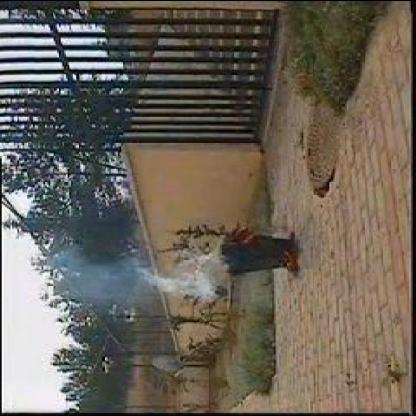-: (46, 248, 221, 312)
foggia-v2-map80-epoch100 - v1 4323: (212, 224, 258, 246)
